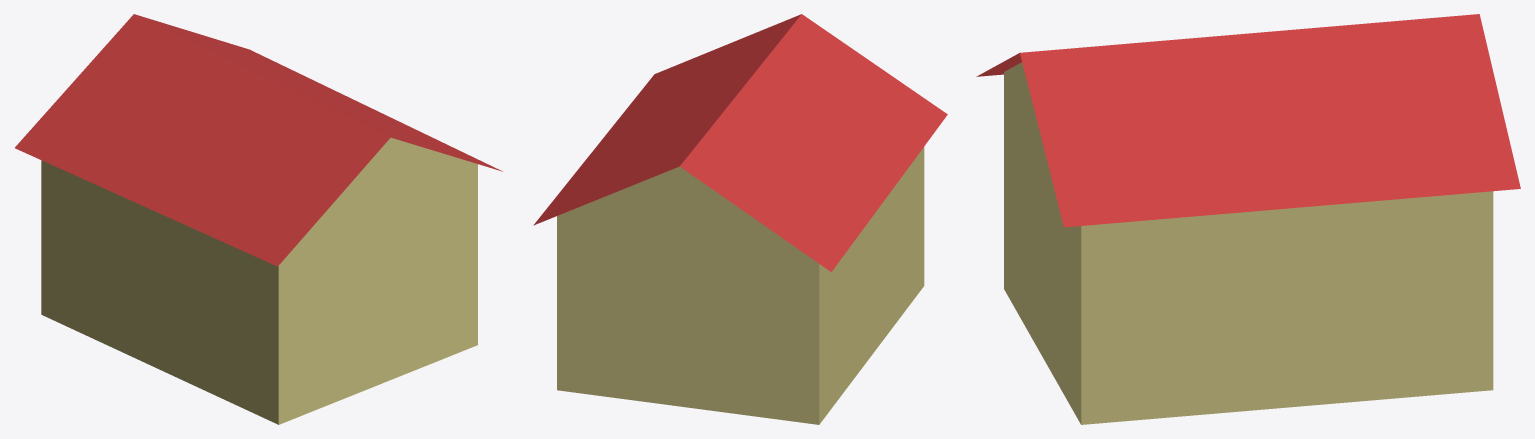
3 views of the same model, side by side, from view 1: azimuth 30°, elevation 25°; view 2: azimuth 150°, elevation 25°; view 3: azimuth 270°, elevation 25° (orthographic). The views are drawn at different scales.
Bounding box in the file's own units: 15.18 × 17.72 × 10.97.
